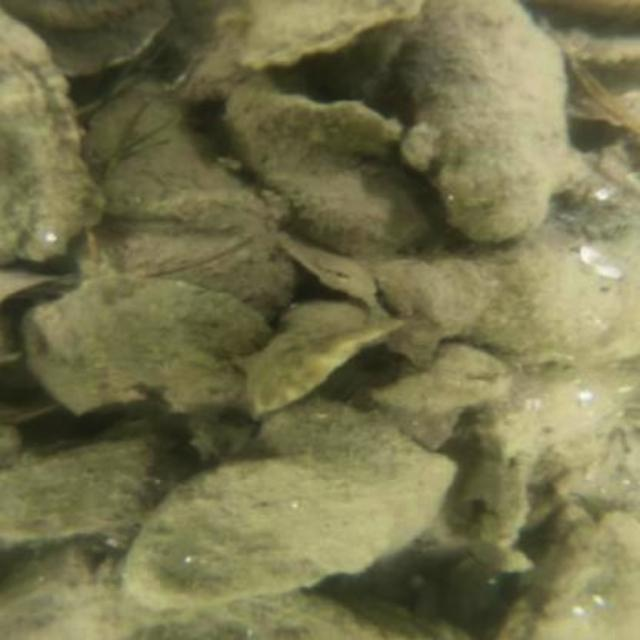Oyster-Closed: (134, 398, 463, 607), (76, 92, 295, 322), (396, 0, 581, 241), (8, 269, 273, 414), (229, 89, 426, 258), (0, 6, 107, 267), (195, 2, 426, 88), (531, 510, 640, 640), (366, 342, 504, 411), (376, 260, 488, 337)
